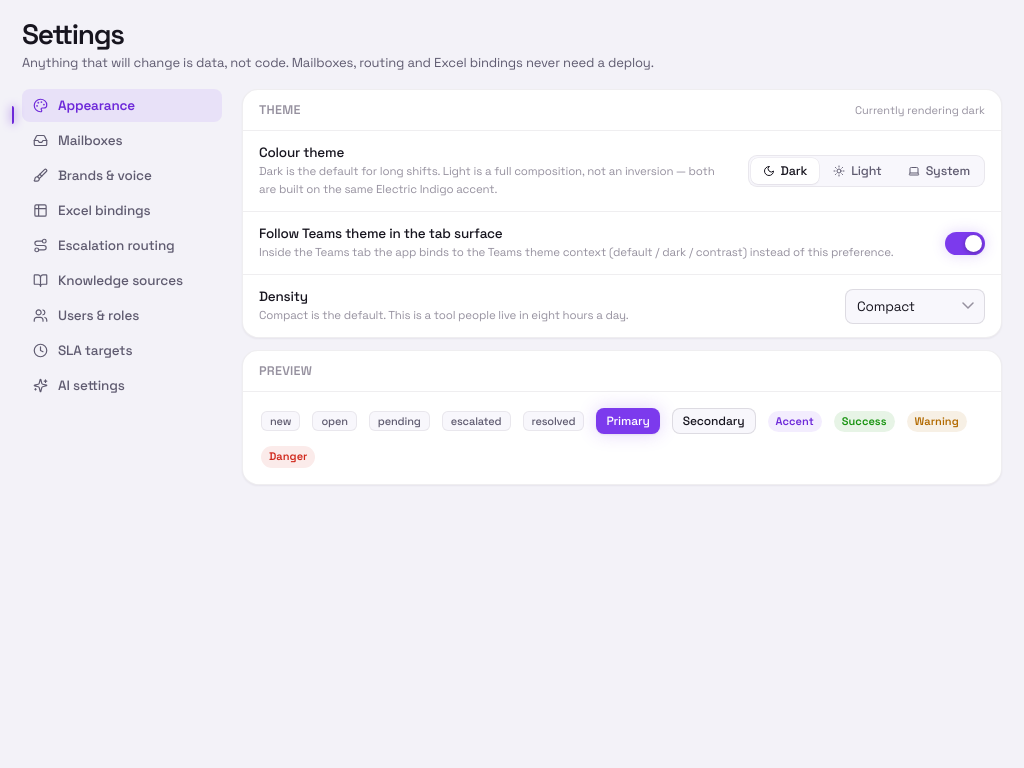
Test case: Settings screen (AD-106) › AI Settings section › displays drafting controls
What coordinates should you click on to do the following:
click the button "AI settings"
I would click on:
 (122, 386)
Its box is [22,369,222,402].
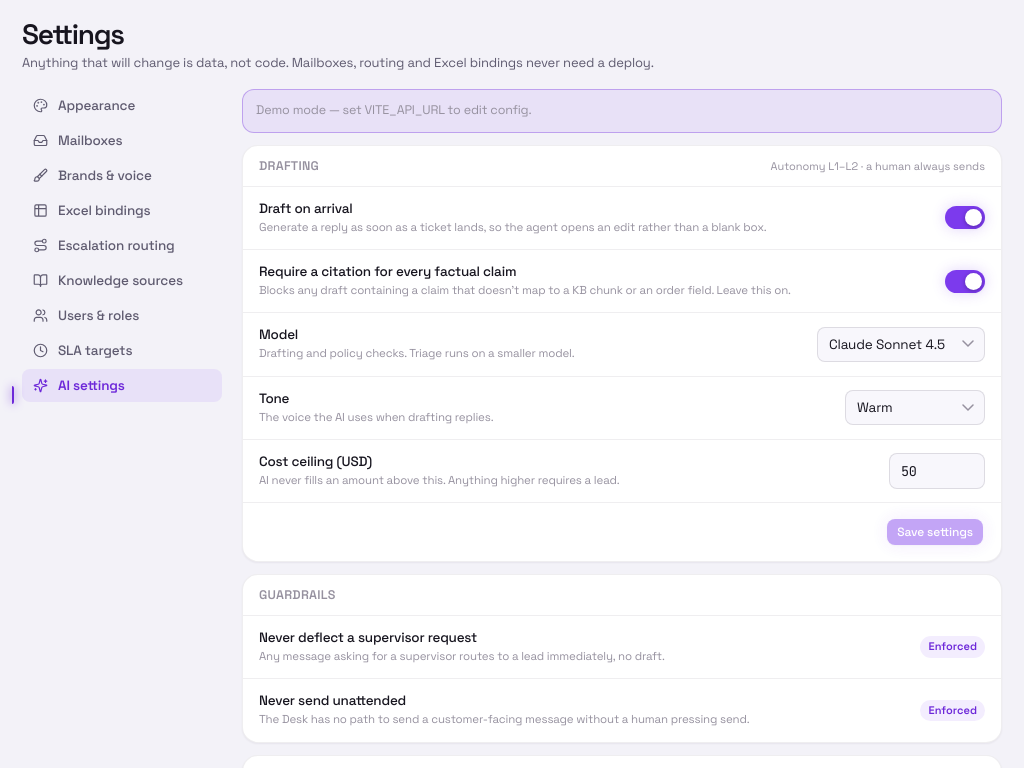
Now the text "Draft on arrival" is shown, box [259,200,353,217]
Now the text "Require a citation for every factual claim" is shown, box [259,263,516,280]
Now the text "Model" is shown, box [259,326,298,343]
